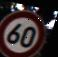Speed Limit -60-: (0, 5, 52, 57)
